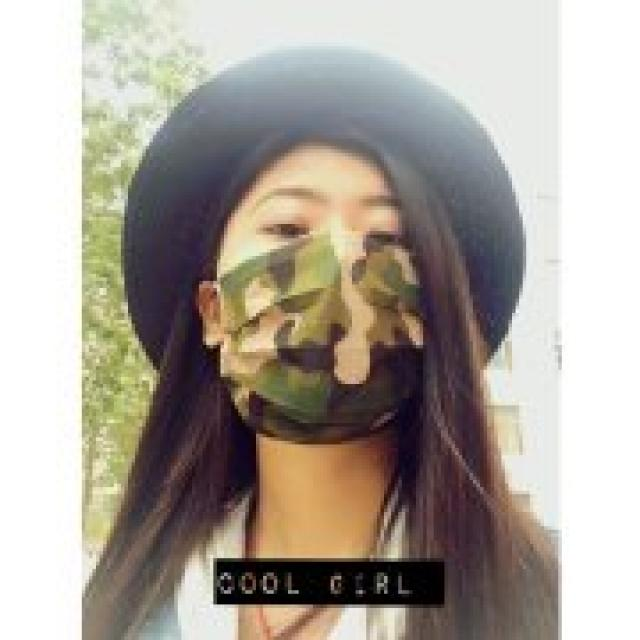mask: (215, 137, 425, 432)
